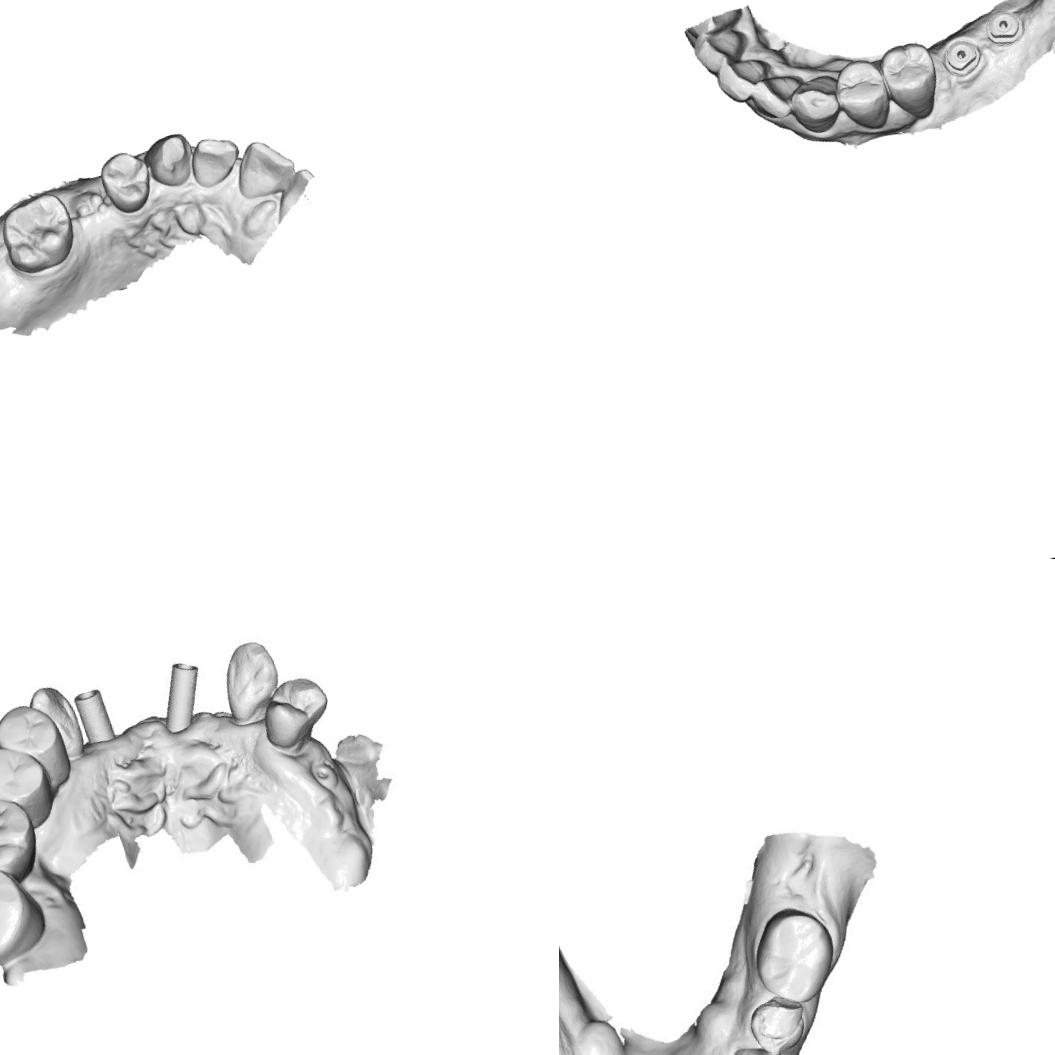canine: (212, 634, 288, 722), (22, 676, 90, 766), (781, 66, 851, 140), (140, 126, 202, 194), (729, 1037, 792, 1055)
implant: (150, 654, 218, 740), (70, 681, 118, 749), (980, 2, 1028, 52), (938, 31, 986, 81), (303, 759, 340, 792)
incisor: (224, 130, 302, 204), (182, 128, 248, 194), (745, 67, 813, 128), (686, 20, 755, 80), (710, 50, 778, 110)
molar: (739, 898, 848, 1012), (0, 186, 83, 279), (0, 849, 42, 972), (0, 788, 43, 893)
premolar: (872, 34, 952, 128), (252, 668, 337, 753), (824, 50, 900, 140), (0, 695, 68, 780), (91, 142, 160, 220), (741, 991, 813, 1055), (0, 740, 48, 817)
